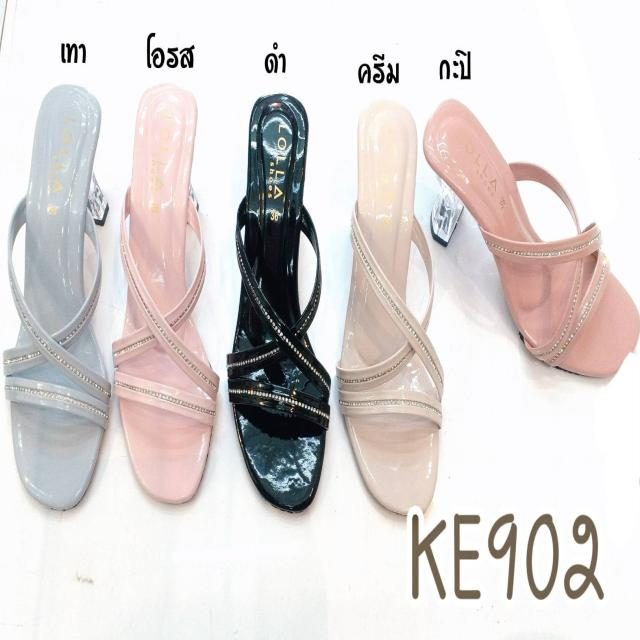black: (232, 97, 332, 510)
cream: (344, 105, 443, 508)
grey: (15, 80, 109, 508)
kapi: (424, 94, 636, 379)
orot: (120, 86, 218, 510)
